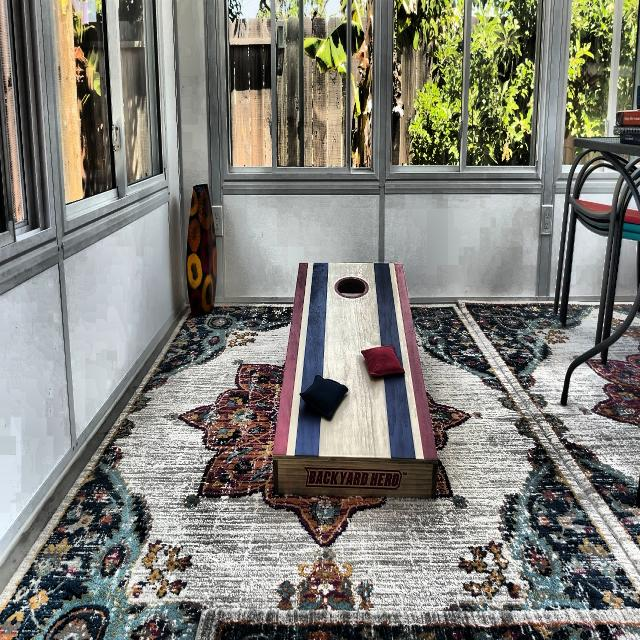blue-bean-bag: (300, 373, 348, 421)
board: (293, 264, 411, 458)
hole: (335, 276, 368, 299)
red-bean-bag: (361, 344, 405, 378)
